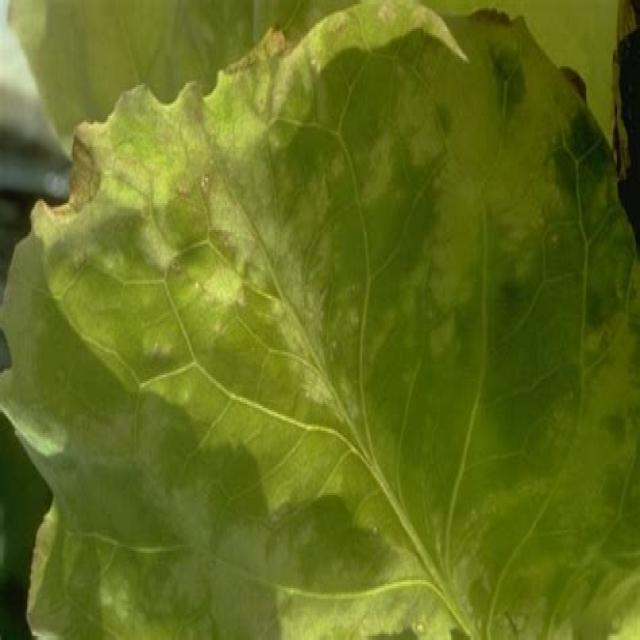lettuce mosaic virus: (20, 26, 624, 612)
